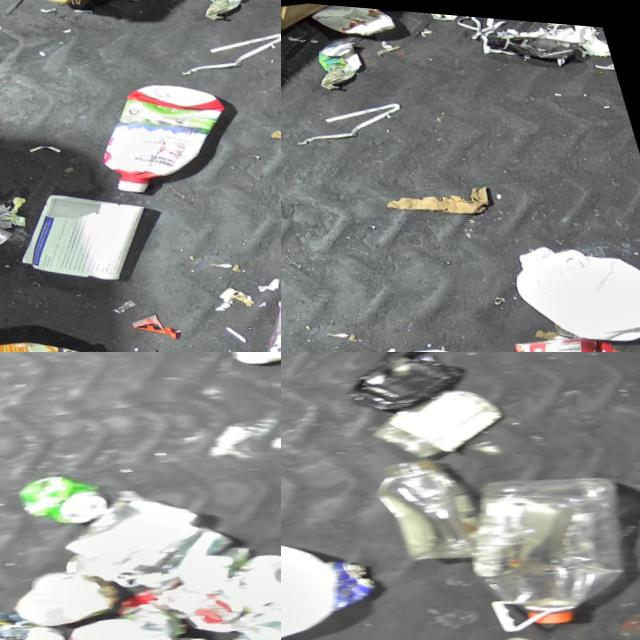can: (4, 461, 107, 533), (310, 547, 376, 612), (306, 0, 397, 42), (502, 318, 603, 352), (0, 595, 64, 640), (258, 454, 281, 525)
milk_jug: (495, 210, 640, 352), (281, 511, 350, 640)
non_white_jug: (435, 446, 640, 640)
